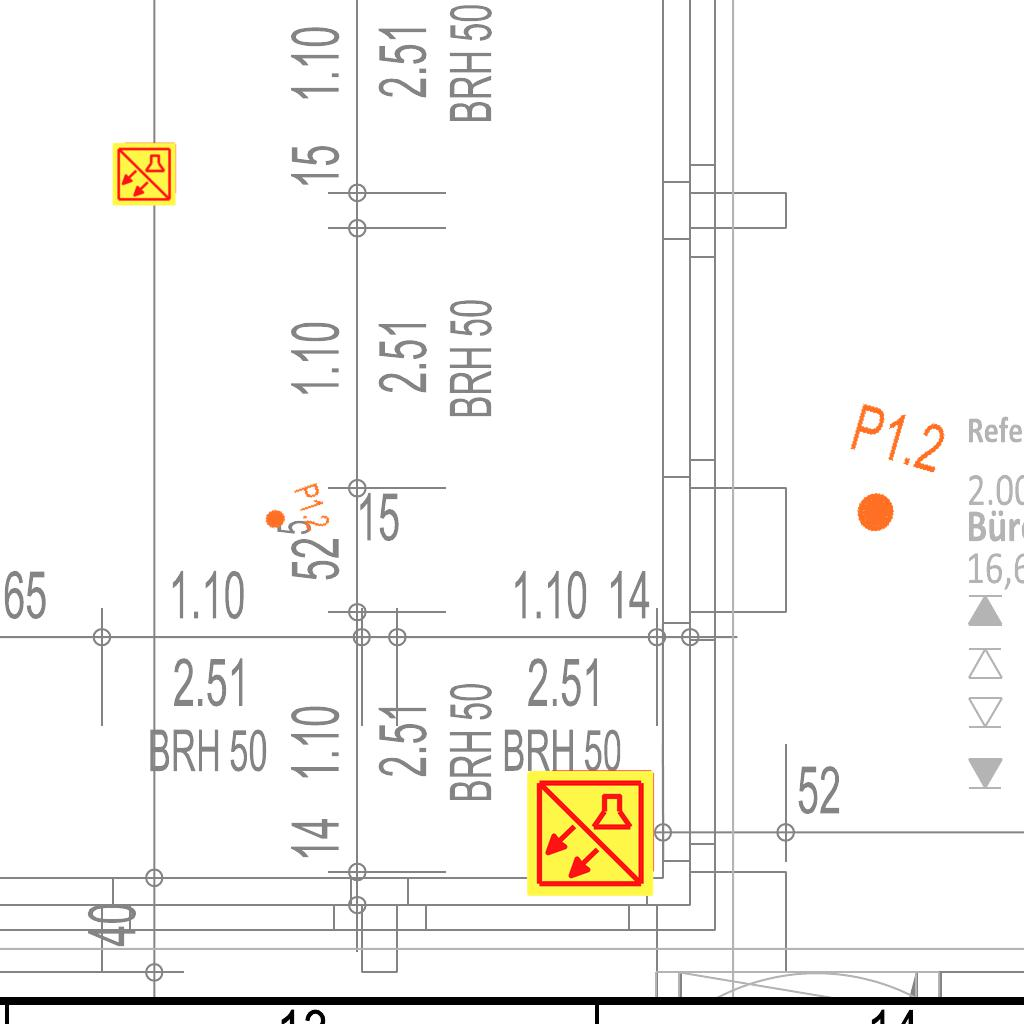Downlight_LED_Einbauleuchten_Flur: (826, 398, 951, 548), (257, 480, 333, 546)
OKW_Multisensormelder_(Kombination_optischer_Rauch-Kahlenmonoxid_Waerme-Melder): (524, 767, 656, 899), (111, 141, 177, 207)
